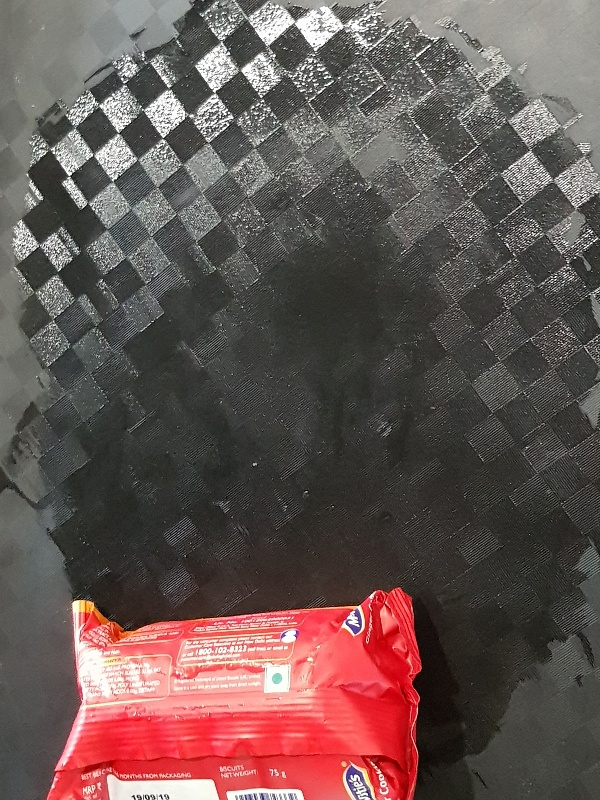McVitie's Ginger Cookies: (45, 583, 425, 800)
